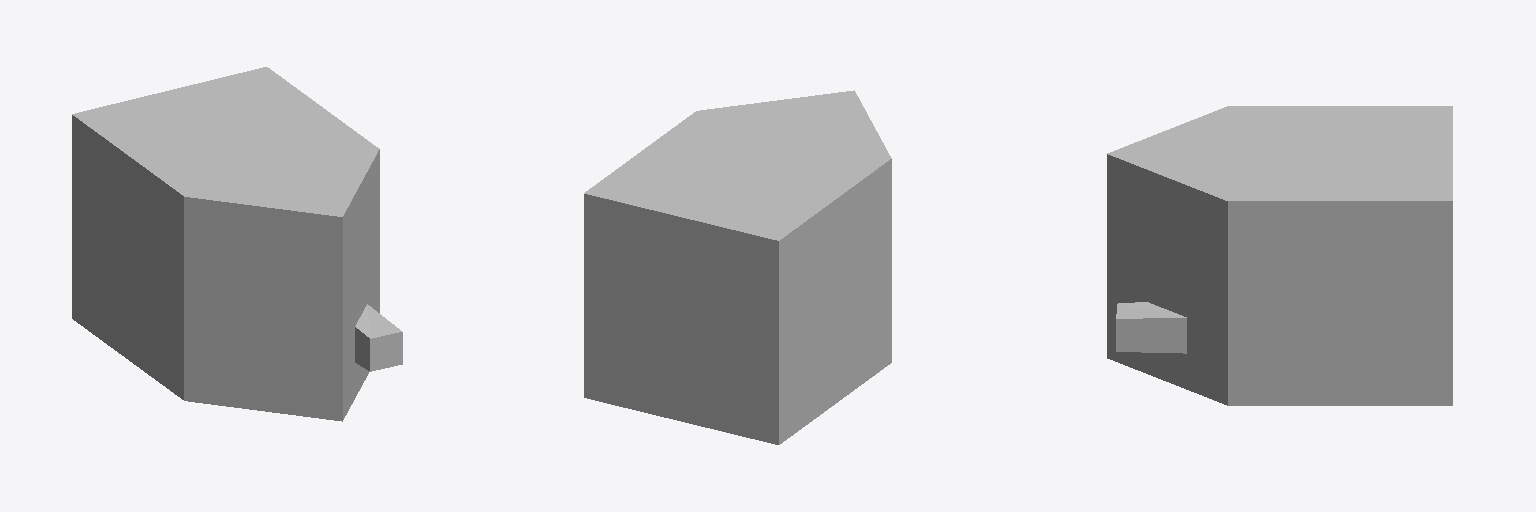
File: sweet_home_without_normals.obj
3 renders of one model, left to right at view 1: azimuth 30°, elevation 25°; view 2: azimuth 150°, elevation 25°; view 3: azimuth 270°, elevation 25°, orthographic.
Parts seen in each view (by area): view 1: Cube; view 2: Cube; view 3: Cube.
Part boxes in pixels (left/top/right/bottom): Cube: left=72, top=67, right=402, bottom=421; Cube: left=584, top=90, right=891, bottom=444; Cube: left=1107, top=106, right=1452, bottom=405.
Size of the model in its own units: 2 by 2 by 3.08.